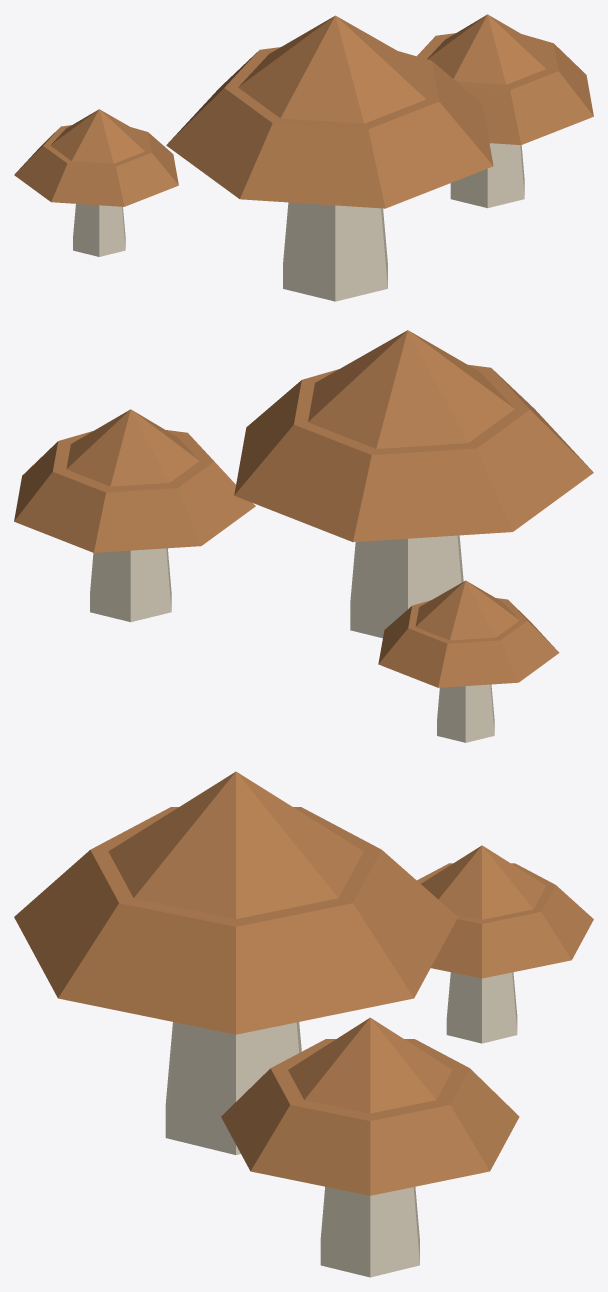
Rendered from Mushrooms_Brown.fbx.
The picture shows the model from 3 angles, top to bottom: view 1: azimuth 30°, elevation 25°; view 2: azimuth 150°, elevation 25°; view 3: azimuth 270°, elevation 25°; orthographic projection. The views are drawn at different scales.
Parts seen in each view (by area): view 1: Mushrooms_Brown; view 2: Mushrooms_Brown; view 3: Mushrooms_Brown.
Part boxes in pixels (left/top/right/bottom): Mushrooms_Brown: left=14, top=14, right=593, bottom=301; Mushrooms_Brown: left=14, top=330, right=593, bottom=742; Mushrooms_Brown: left=14, top=771, right=593, bottom=1277.
Size of the model in its own units: 0.7094 by 0.3448 by 0.5186.
